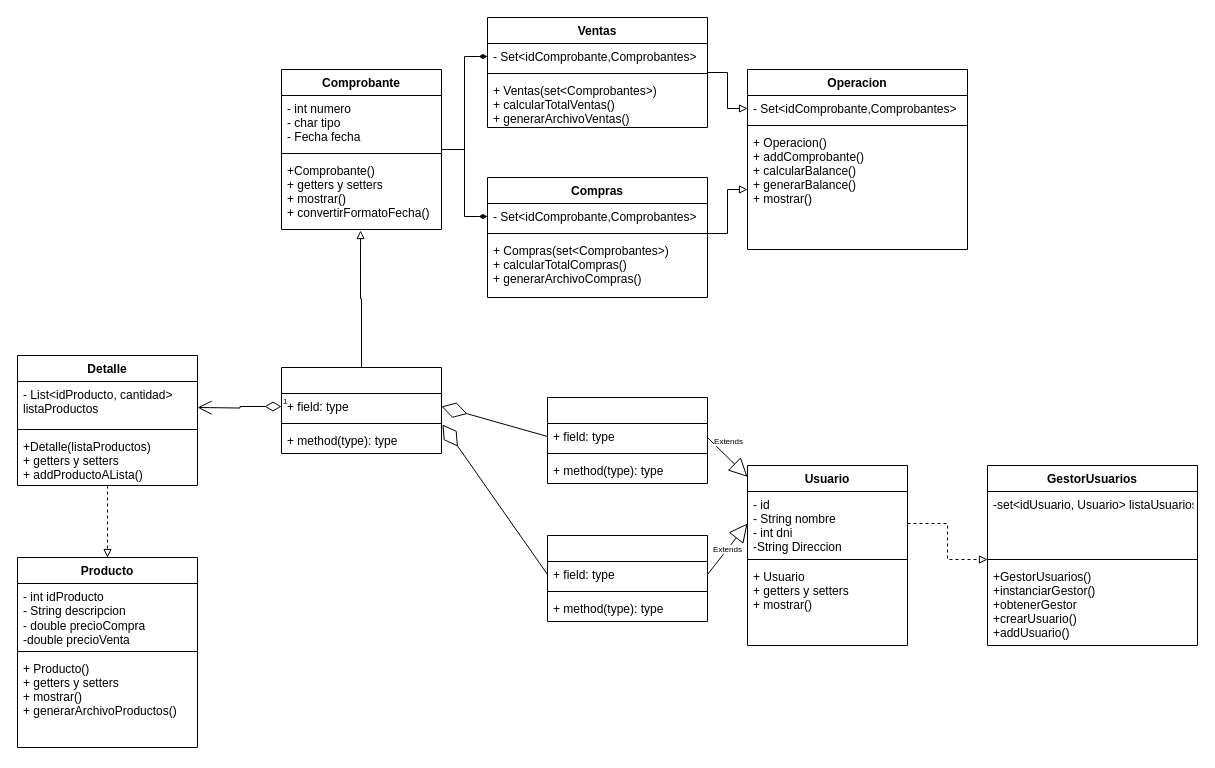
The diagram is 1215 pixels wide and 768 high, and some of its shapes have lost their labels. Here are the shapes that lost their labels. From the top down, the box of each, then its label:
(280, 366, 442, 454): Factura
(546, 396, 708, 484): Comprador
(546, 534, 708, 622): Vendedor
